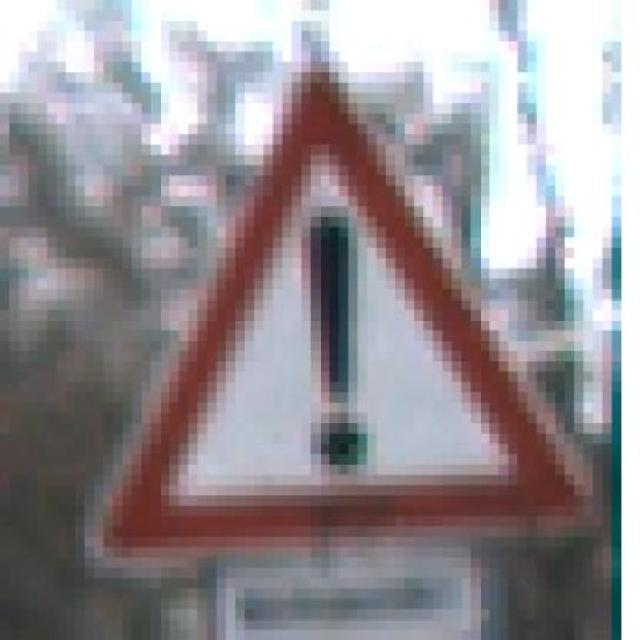Attention Please-: (56, 51, 602, 558)
